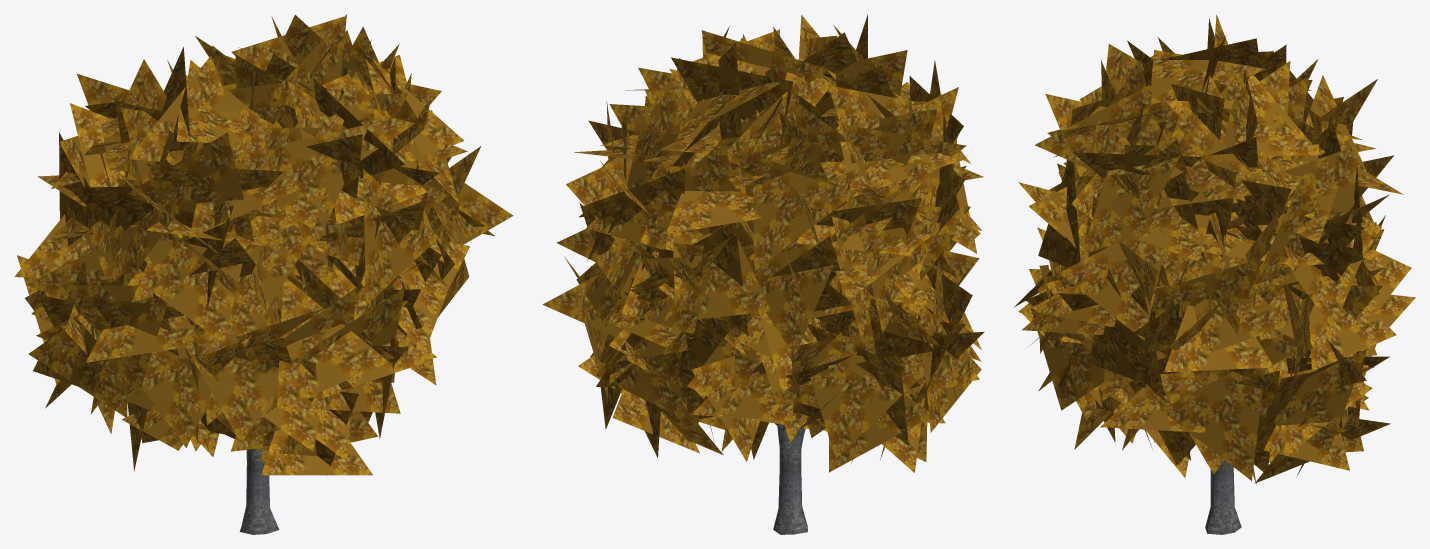
The model's file is Platanus_Occidentalis_Autumn_Young.glb.
The picture shows the model from 3 angles, left to right: view 1: azimuth 30°, elevation 25°; view 2: azimuth 150°, elevation 25°; view 3: azimuth 270°, elevation 25°; orthographic projection. The views are drawn at different scales.
Parts seen in each view (by area): view 1: Platanus_Occidentalis_Autumn_Young__LOD3; view 2: Platanus_Occidentalis_Autumn_Young__LOD3; view 3: Platanus_Occidentalis_Autumn_Young__LOD3.
Boxes of the visible parts, x1,y1,x2,y2 form: Platanus_Occidentalis_Autumn_Young__LOD3: [14, 14, 513, 534]; Platanus_Occidentalis_Autumn_Young__LOD3: [542, 14, 984, 534]; Platanus_Occidentalis_Autumn_Young__LOD3: [1014, 15, 1415, 534].
Bounding box in the file's own units: 13 × 14.77 × 11.35.
2 materials, 2 textured.
